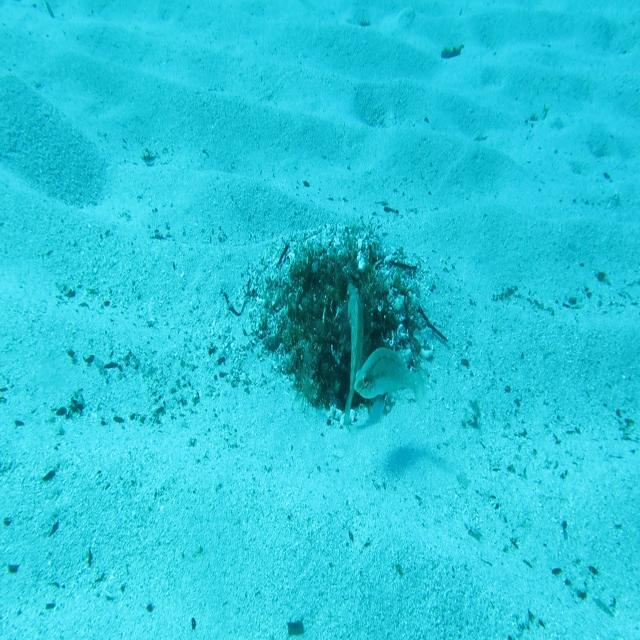FAN: (341, 281, 370, 435)
core_nest: (313, 267, 358, 305)
female: (352, 346, 431, 420)
nest: (242, 210, 440, 441)
vegetation: (439, 42, 464, 62)
